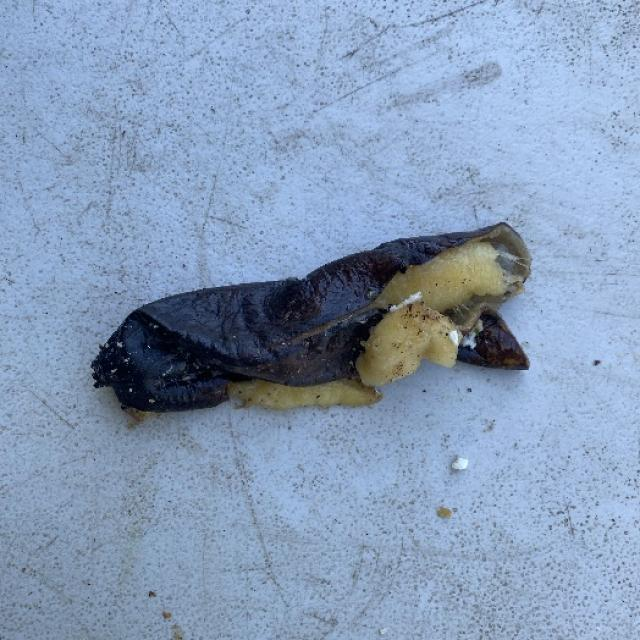organik: (90, 227, 529, 425)
